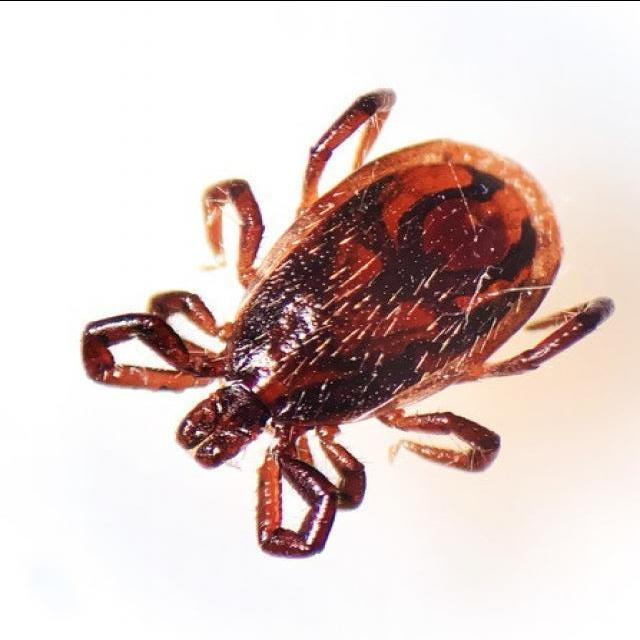Ixodes Ricinus-M: (82, 87, 617, 559)
